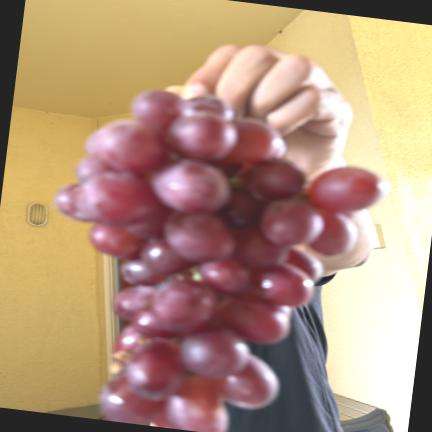grape_cluster: (55, 90, 387, 432)
